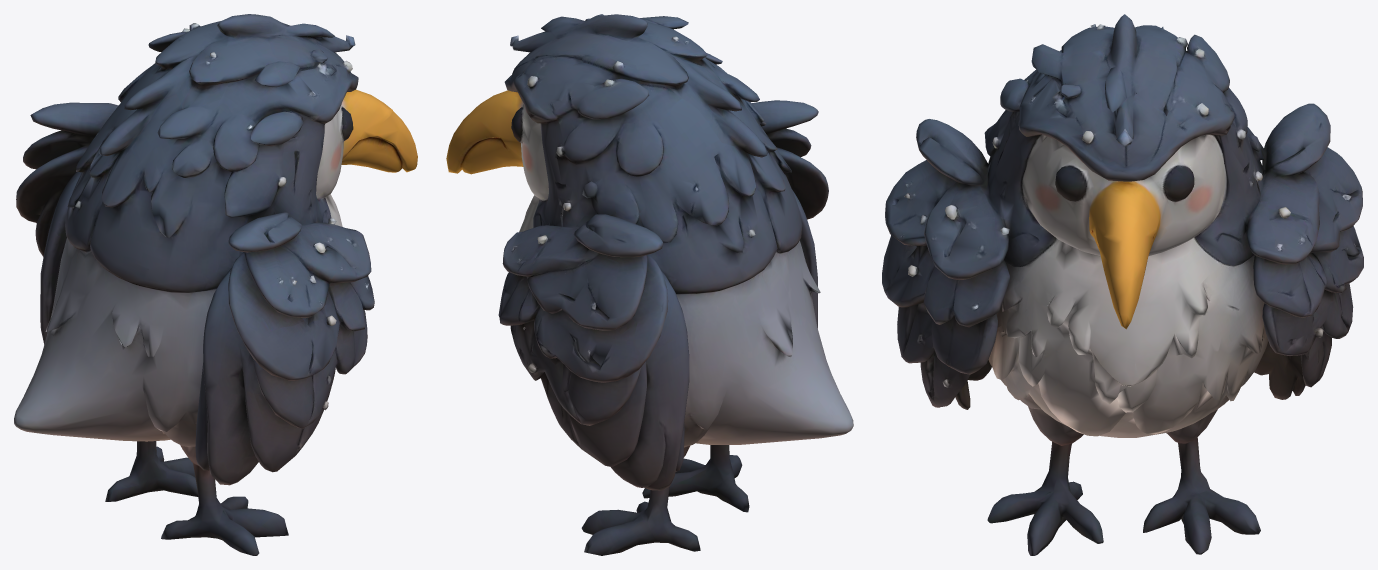
The model's file is body.glb.
3 renders of one model, left to right at view 1: azimuth 30°, elevation 25°; view 2: azimuth 150°, elevation 25°; view 3: azimuth 270°, elevation 25°, orthographic. The views are drawn at different scales.
Parts seen in each view (by area): view 1: tripo_node_b9d830bb-7b1a-400e-92ea-4fb113e9c7ac; view 2: tripo_node_b9d830bb-7b1a-400e-92ea-4fb113e9c7ac; view 3: tripo_node_b9d830bb-7b1a-400e-92ea-4fb113e9c7ac.
Boxes of the visible parts, x1=… form: tripo_node_b9d830bb-7b1a-400e-92ea-4fb113e9c7ac: x1=14, y1=14, x2=417, y2=555; tripo_node_b9d830bb-7b1a-400e-92ea-4fb113e9c7ac: x1=446, y1=14, x2=853, y2=555; tripo_node_b9d830bb-7b1a-400e-92ea-4fb113e9c7ac: x1=882, y1=14, x2=1363, y2=555.
Size of the model in its own units: 0.8578 by 1 by 0.8244.
Materials: 1 (1 with a texture image).
